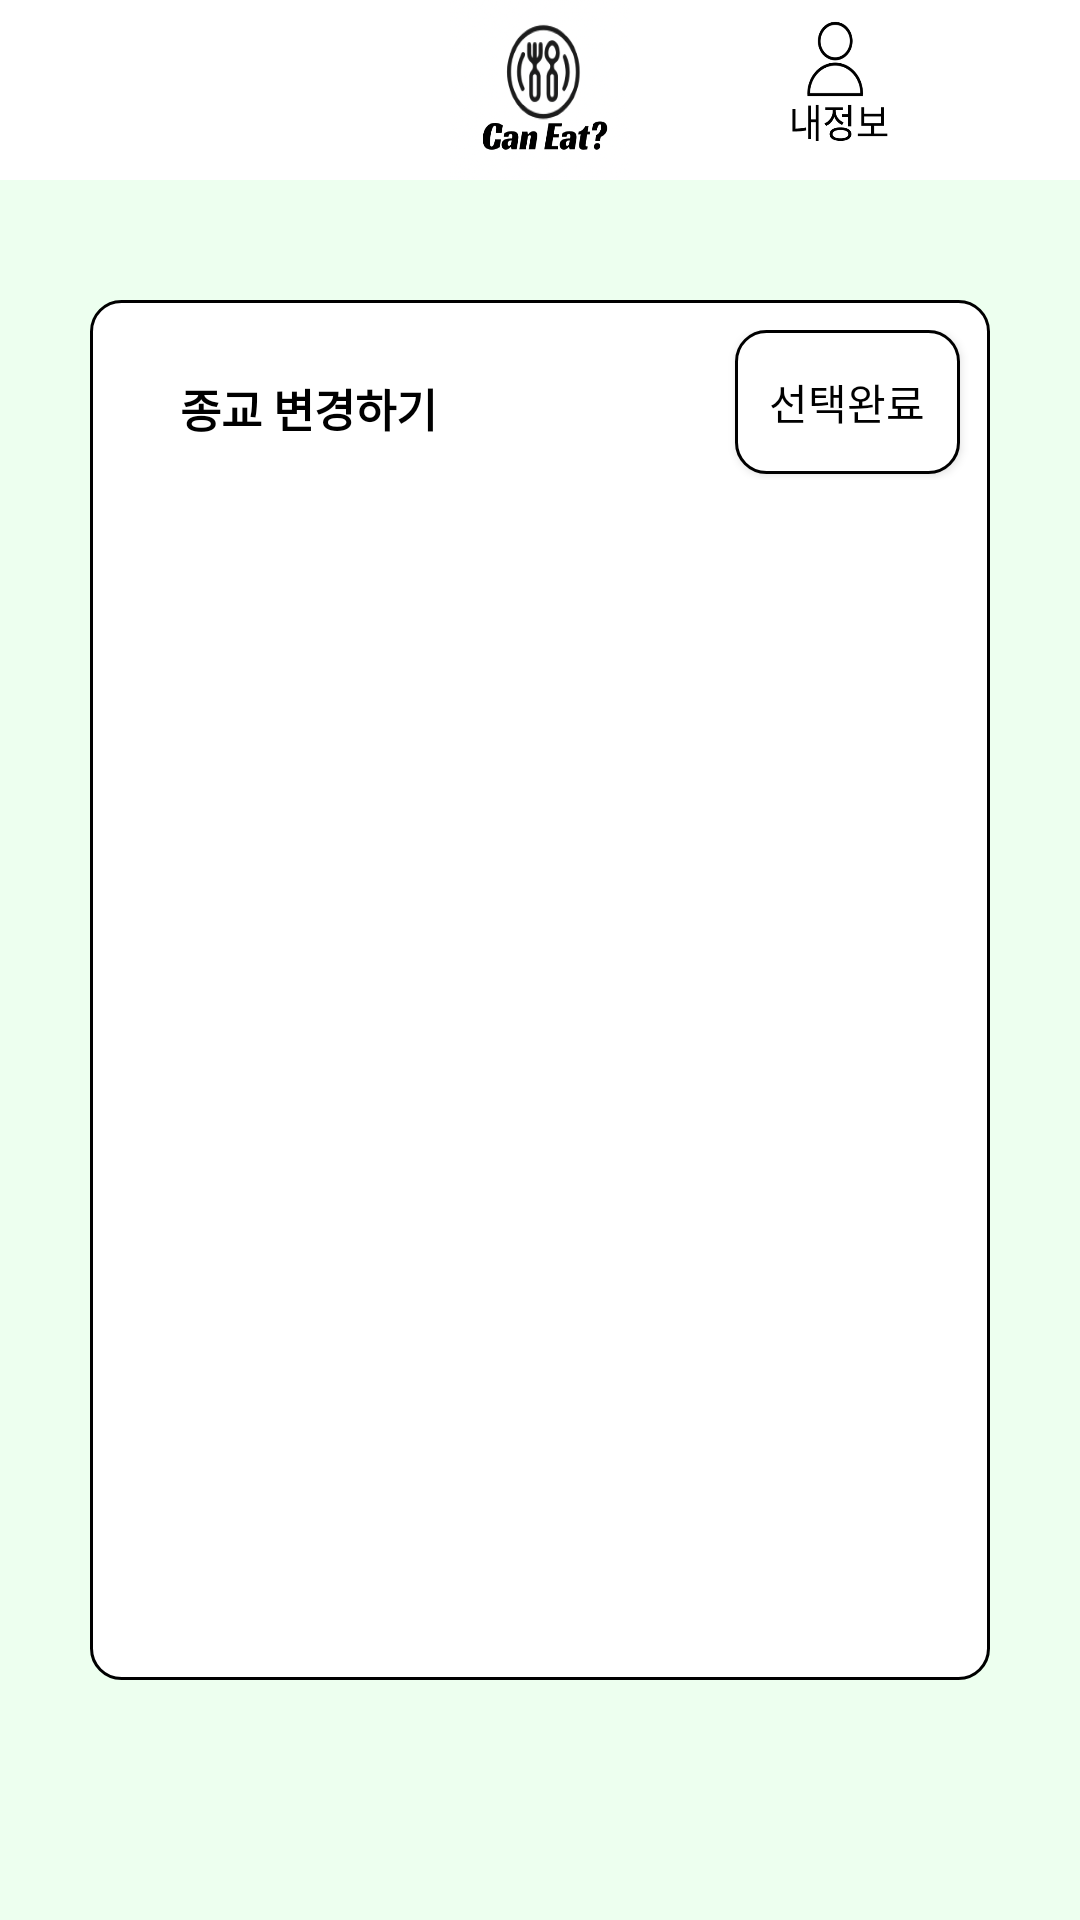

Named icons in this screenshot (1080px×1920px) and their bounding boxes, (x1, y1, x2, y2):
myicon: (792, 22, 888, 141)
